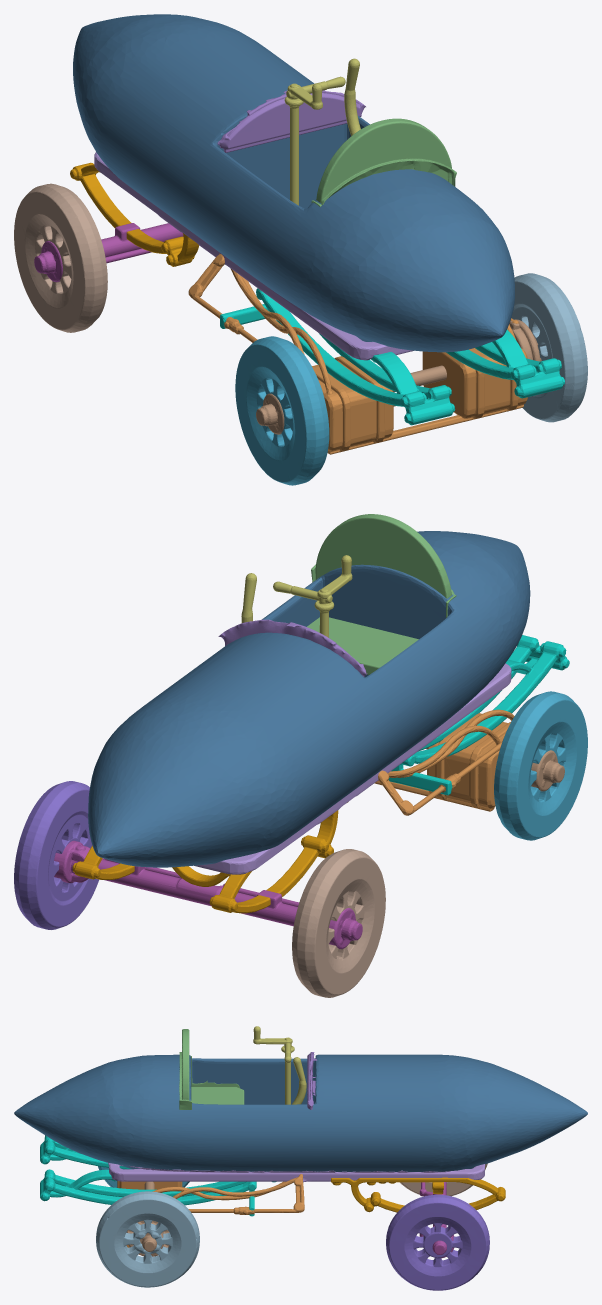
3 views of the same model, one above another, from view 1: azimuth 30°, elevation 25°; view 2: azimuth 150°, elevation 25°; view 3: azimuth 270°, elevation 25° (orthographic). The views are drawn at different scales.
Visible parts, largest first — view 1: world; view 2: world; view 3: world.
Part boxes in pixels (x1=…): world: x1=14, y1=14, x2=587, y2=485; world: x1=14, y1=514, x2=587, y2=997; world: x1=14, y1=1026, x2=587, y2=1290.
Bounding box in the file's own units: 0.8183 × 0.7634 × 1.88.
